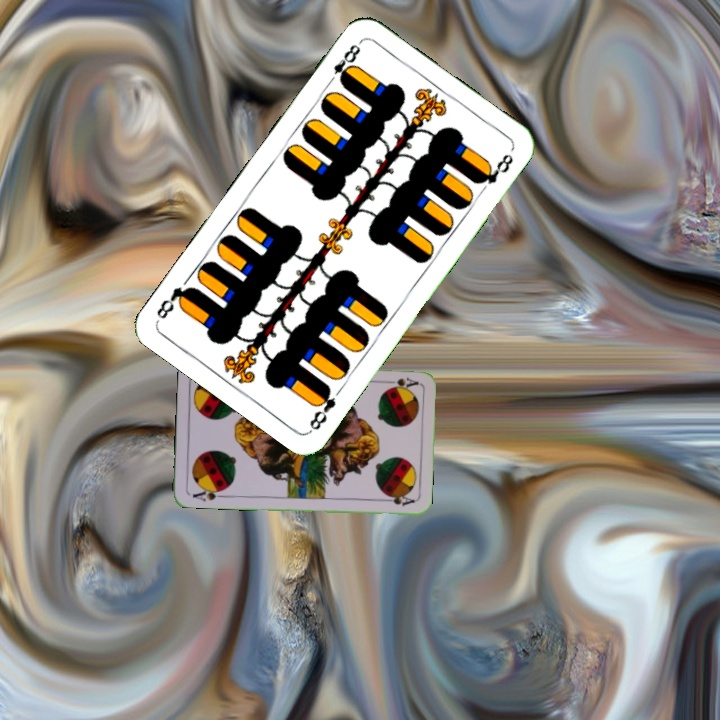E8: (323, 38, 364, 88), (305, 381, 339, 434)
SA: (189, 484, 228, 504), (381, 373, 421, 392)
